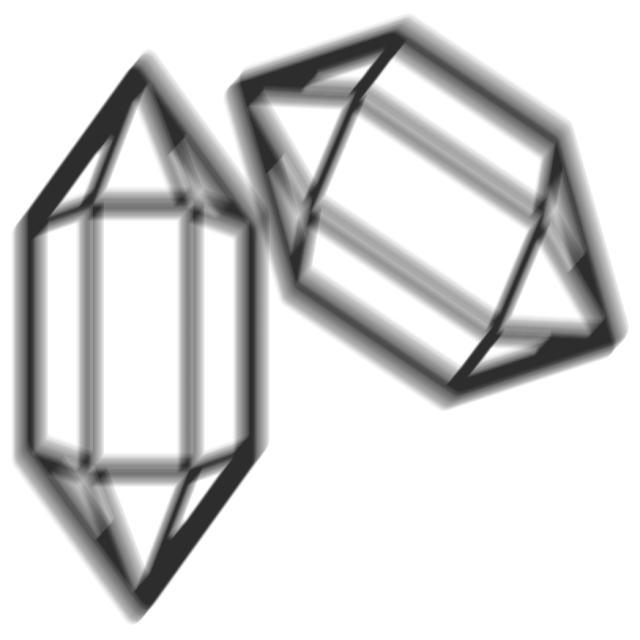crystal: (214, 11, 640, 420), (7, 52, 280, 630)
